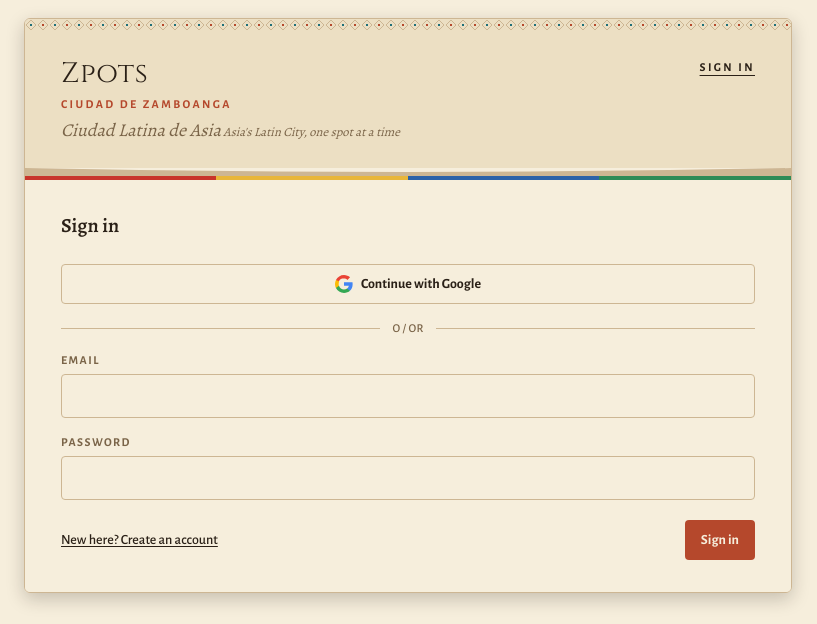
Test: Login page -- Google sign-in › shows a loading label and disables the button while the redirect is in flight
Click the button "Continue with Google" at (408, 284), box [61,264,755,304]
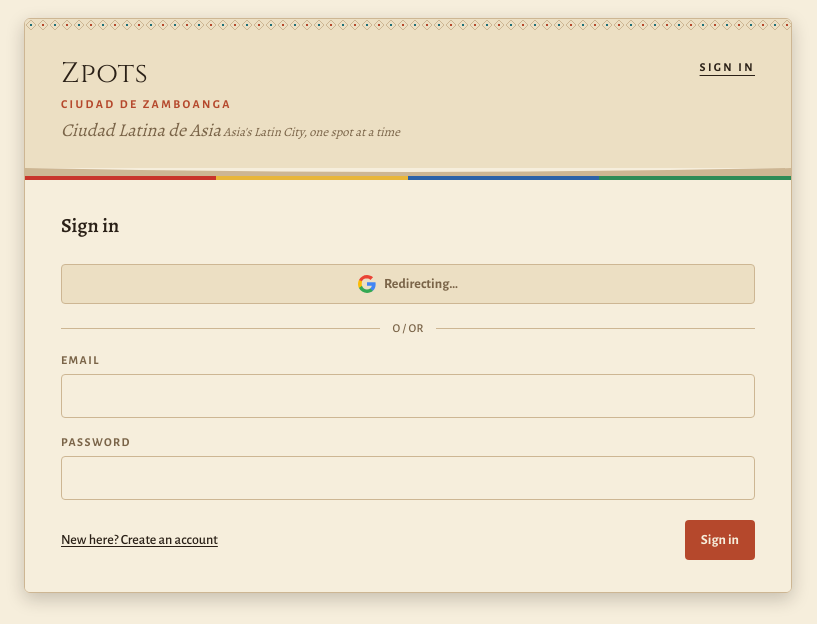
Now the button "Redirecting…" is disabled, box [61,264,755,304]
